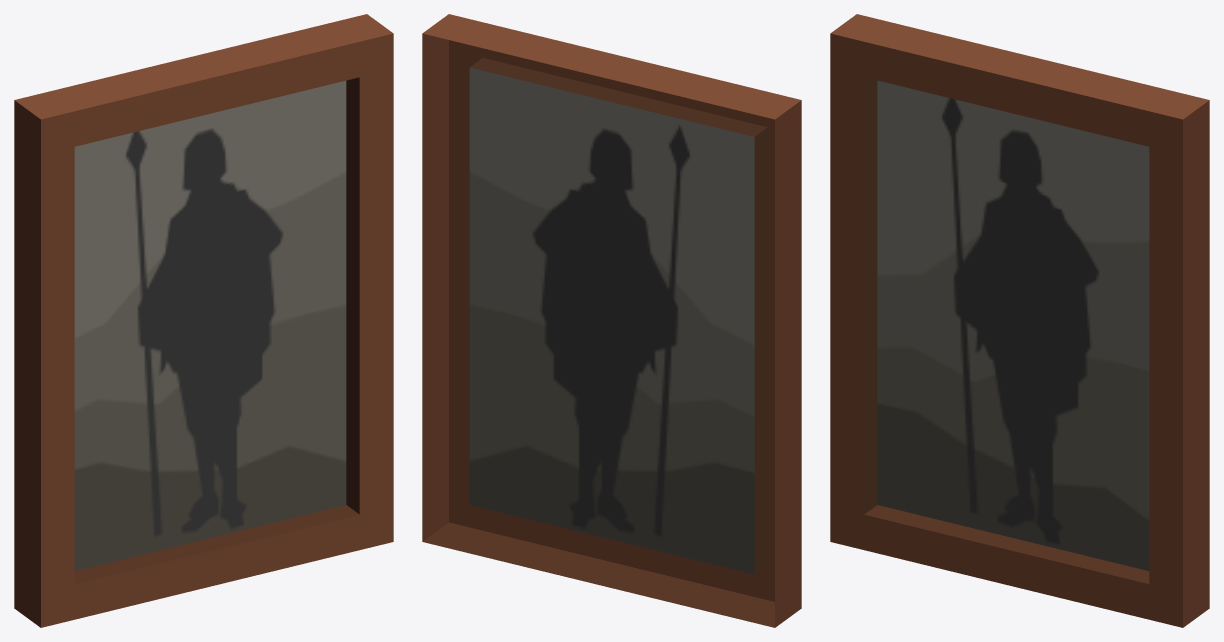
File: SM_Prop_Painting_02.glb
The picture shows the model from 3 angles, left to right: view 1: azimuth 30°, elevation 25°; view 2: azimuth 150°, elevation 25°; view 3: azimuth 330°, elevation 25°; orthographic projection.
Parts seen in each view (by area): view 1: SM_Prop_Painting_02; view 2: SM_Prop_Painting_02; view 3: SM_Prop_Painting_02.
Part boxes in pixels (<box>): SM_Prop_Painting_02: <box>14,14,393,627</box>; SM_Prop_Painting_02: <box>422,14,801,627</box>; SM_Prop_Painting_02: <box>830,14,1209,627</box>.
Size of the model in its own units: 0.014 by 0.0193 by 0.00183.
Materials: 1 (1 with a texture image).
